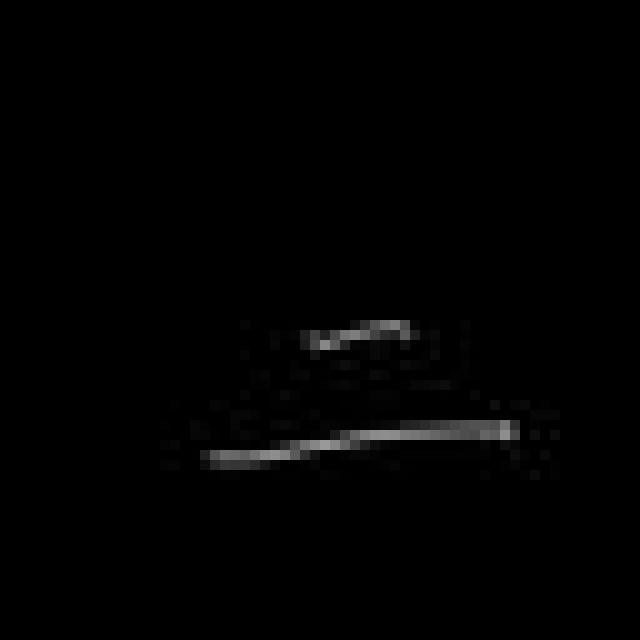2 -two-: (194, 298, 526, 466)
